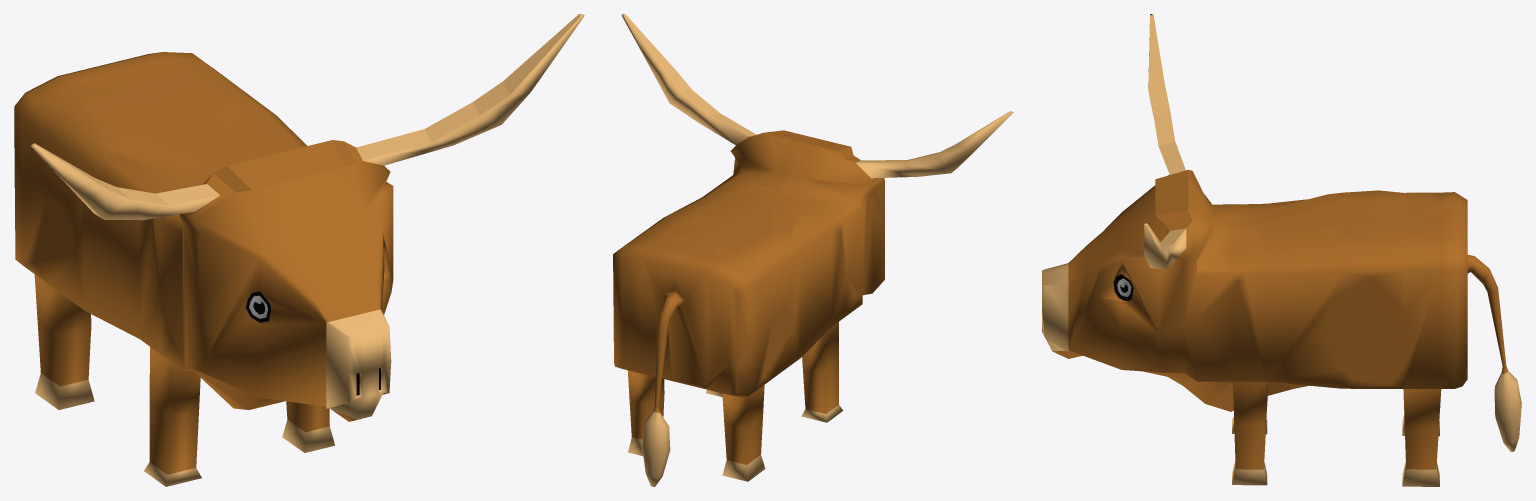
Rendered from LonghornCow.fbx.
3 views of the same model, side by side, from view 1: azimuth 30°, elevation 25°; view 2: azimuth 150°, elevation 25°; view 3: azimuth 270°, elevation 25° (orthographic). The views are drawn at different scales.
Visible parts, largest first — view 1: Cube; view 2: Cube; view 3: Cube.
Part boxes in pixels (left/top/right/bottom): Cube: left=14, top=14, right=584, bottom=486; Cube: left=613, top=14, right=1013, bottom=486; Cube: left=1042, top=14, right=1521, bottom=486.
Size of the model in its own units: 814 by 606 by 780.
